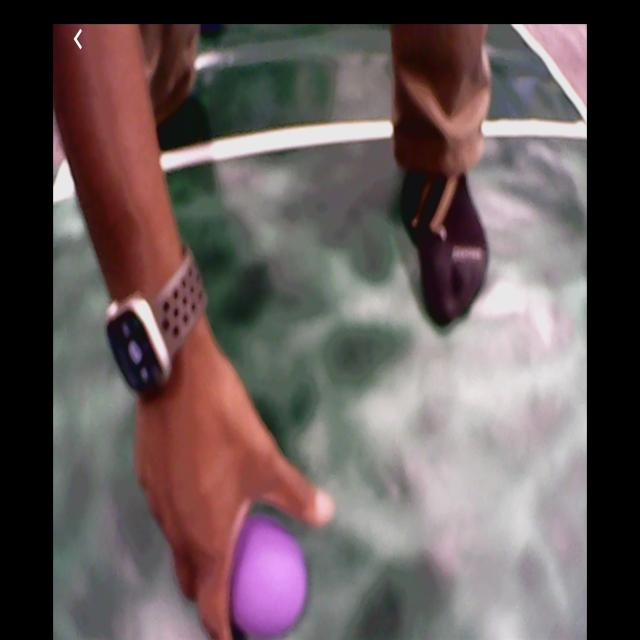ball: (233, 517, 308, 635)
